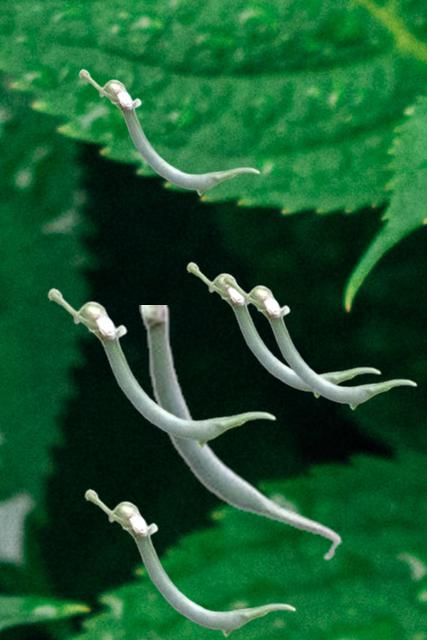french_bean: (139, 305, 341, 561), (47, 287, 275, 447), (84, 488, 295, 636), (186, 261, 380, 397), (222, 273, 416, 409), (78, 68, 259, 195)
